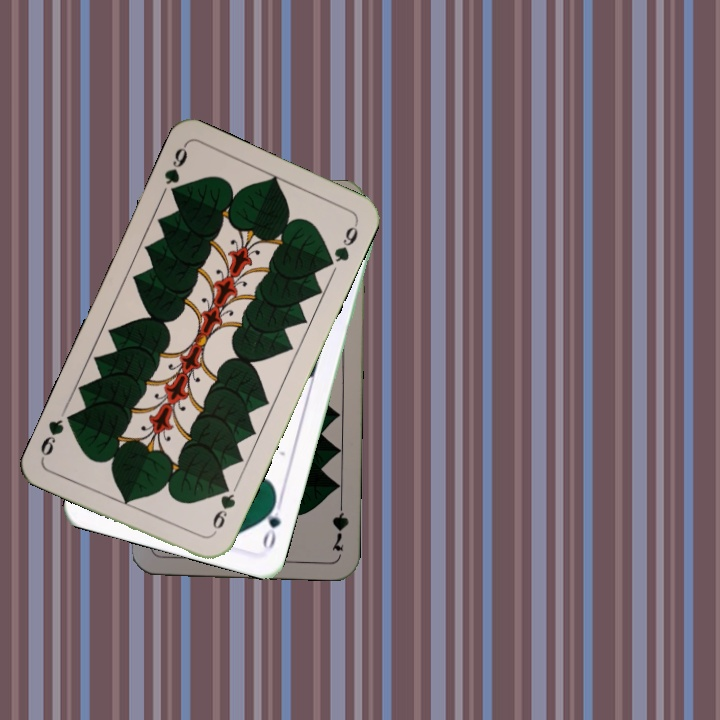G7: (328, 495, 351, 554)
G9: (206, 479, 238, 538), (160, 141, 190, 201)
GO: (258, 494, 286, 552)
